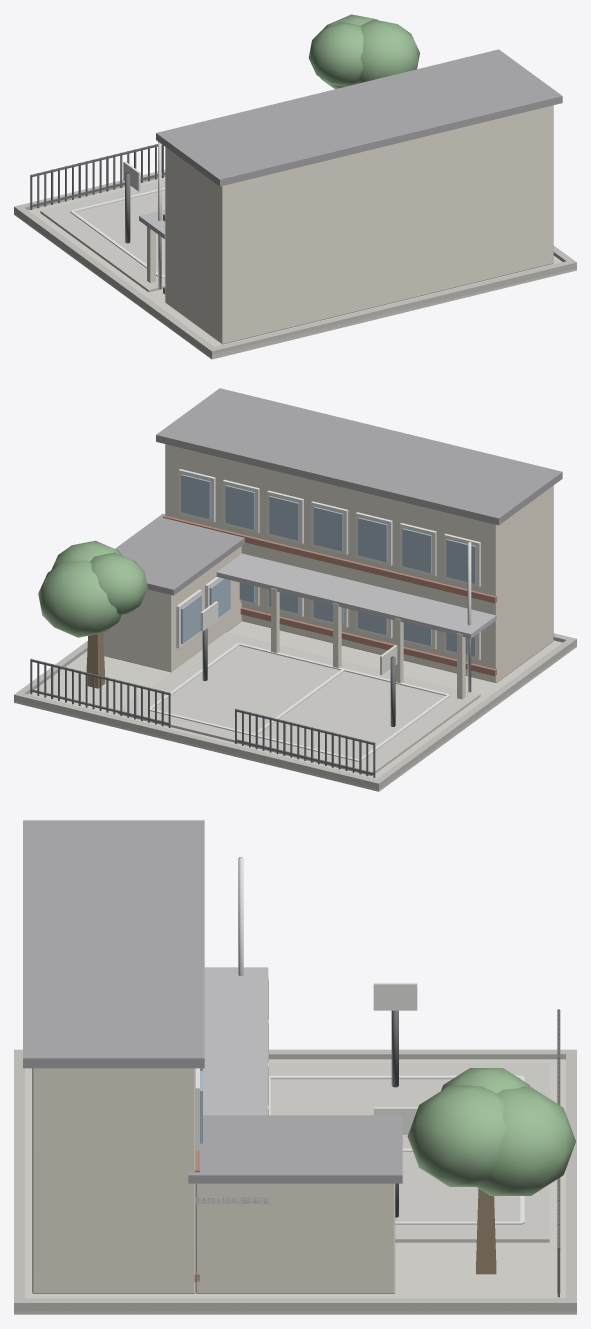
The model's file is mapa.colegio.fbx.
3 renders of one model, top to bottom at view 1: azimuth 30°, elevation 25°; view 2: azimuth 150°, elevation 25°; view 3: azimuth 270°, elevation 25°, orthographic. The views are drawn at different scales.
Parts seen in each view (by area): view 1: Pabellón, Techo, Patio, Vereda, Solera.001, Copa, Copa.002, Solera.003, Solera, Mástil, Pilar.005, Pasillo techado; view 2: Pabellón, Techo, Patio, Vereda, Pasillo techado, Ala, Techo del ala, Copa.001, Solera, Solera.003, Copa.002, Franja.001 (+28 smaller); view 3: Techo, Pabellón, Ala, Vereda, Patio, Techo del ala, Pasillo techado, Solera.002, Copa, Copa.001, Solera.003, Solera.001 (+6 smaller).
Part boxes in pixels (x1,y1,x2,y2): Pabellón: (165,105,553,344); Techo: (156,49,562,186); Patio: (40,180,165,292); Vereda: (14,177,576,359); Solera.001: (208,259,576,356); Copa: (356,19,419,83); Copa.002: (308,22,363,86); Solera.003: (14,205,218,356); Solera: (14,170,165,214); Mástil: (158,141,161,289); Pilar.005: (147,226,155,282); Pasillo techado: (139,209,165,239); Pabellón: (165,444,553,682); Techo: (156,388,562,525); Patio: (117,632,480,775); Vereda: (14,621,576,791); Pasillo techado: (216,553,496,638); Ala: (103,546,241,672); Techo del ala: (115,514,245,595); Copa.001: (38,560,121,637); Solera: (14,692,382,789); Solera.003: (372,637,576,789); Copa.002: (90,552,147,615); Franja.001: (163,515,496,603); Techo: (23,820,204,1068); Pabellón: (32,1068,195,1293); Ala: (195,1183,395,1293); Vereda: (14,1059,576,1314); Patio: (269,1063,549,1242); Techo del ala: (188,1115,402,1183); Pasillo techado: (195,967,268,1204); Solera.002: (14,1298,576,1311); Copa: (407,1085,505,1186); Copa.001: (477,1087,575,1195); Solera.003: (14,1049,576,1059); Solera.001: (14,1049,24,1311).
Bounding box in the file's own units: 3.3 × 1.51 × 3.1.
